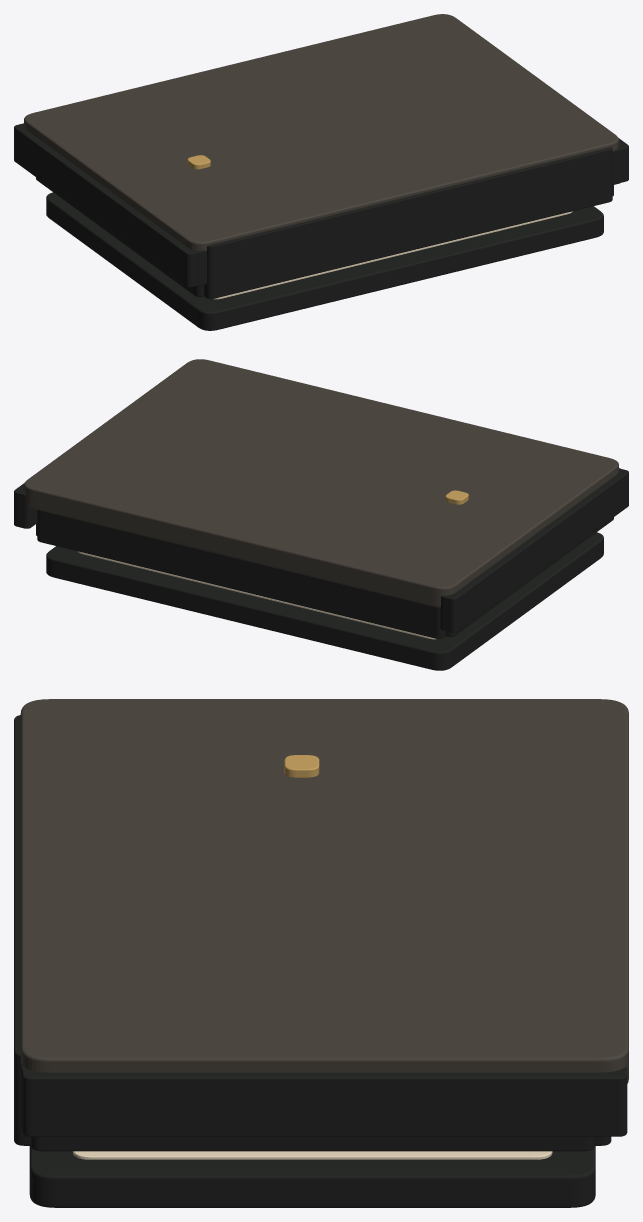
File: travel-box.glb
The picture shows the model from 3 angles, top to bottom: view 1: azimuth 30°, elevation 25°; view 2: azimuth 150°, elevation 25°; view 3: azimuth 270°, elevation 25°; orthographic projection. The views are drawn at different scales.
Parts seen in each view (by area): view 1: lid_panel, base_front_wall, base_floor, lid_left_lip, inner_tray, lid_front_lip, base_left_wall; view 2: lid_panel, base_floor, base_back_wall, lid_left_lip, inner_tray, lid_right_lip, base_left_wall; view 3: lid_panel, lid_right_lip, base_floor, base_right_wall, inner_tray, base_front_wall, item_perfume.
Part boxes in pixels (box(x1,y1,x2,y2)): lid_panel: box(24, 14, 618, 250); base_front_wall: box(204, 147, 612, 299); base_floor: box(46, 192, 603, 330); lid_left_lip: box(14, 123, 197, 287); inner_tray: box(213, 211, 572, 299); lid_front_lip: box(193, 146, 621, 286); base_left_wall: box(36, 177, 203, 297); lid_panel: box(24, 359, 618, 607); base_floor: box(46, 532, 603, 670); base_back_wall: box(37, 510, 445, 638); lid_left_lip: box(440, 469, 628, 632); inner_tray: box(77, 551, 436, 639); lid_right_lip: box(14, 483, 37, 528); base_left_wall: box(446, 517, 613, 636); lid_panel: box(20, 699, 628, 1083); lid_right_lip: box(22, 1067, 627, 1136); base_floor: box(29, 1146, 595, 1207); base_right_wall: box(31, 1136, 594, 1151); inner_tray: box(72, 1151, 552, 1159); base_front_wall: box(14, 715, 30, 1145); item_perfume: box(284, 755, 319, 777).
Size of the model in its own units: 6.52 by 1.38 by 4.56.
